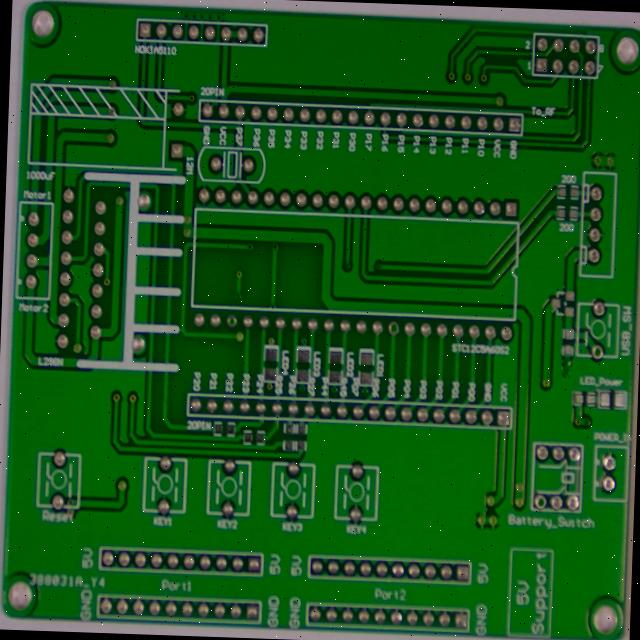missing_hole: (528, 482, 545, 504), (213, 296, 230, 315), (378, 305, 395, 322), (589, 327, 603, 347)
